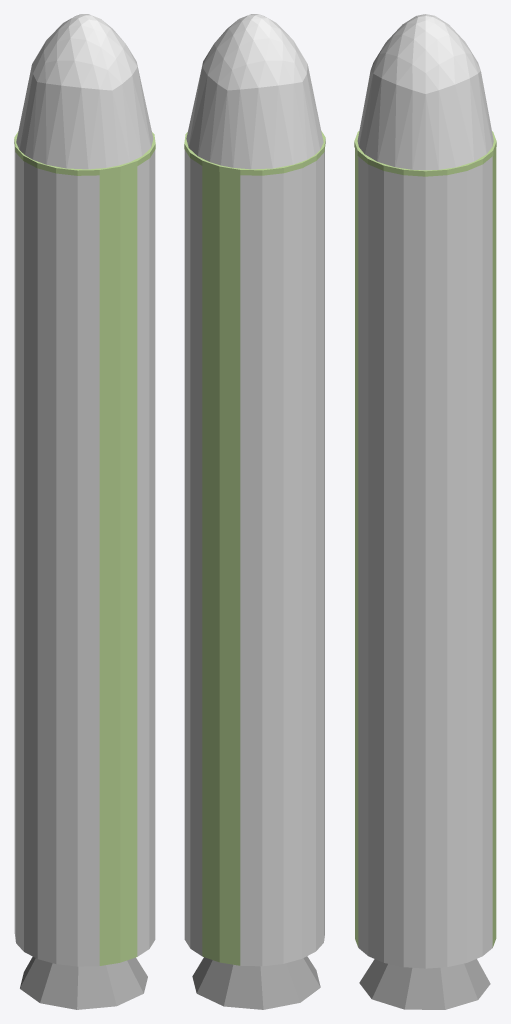
File: roket2_1.fbx
3 views of the same model, side by side, from view 1: azimuth 30°, elevation 25°; view 2: azimuth 150°, elevation 25°; view 3: azimuth 270°, elevation 25° (orthographic).
Parts seen in each view (by area): view 1: Cylinder_4; view 2: Cylinder_4; view 3: Cylinder_4.
Boxes of the visible parts, left/top/right/bottom form: Cylinder_4: left=14, top=14, right=155, bottom=1009; Cylinder_4: left=184, top=14, right=325, bottom=1009; Cylinder_4: left=354, top=14, right=496, bottom=1009.
Bounding box in the file's own units: 226 × 1693 × 226.
